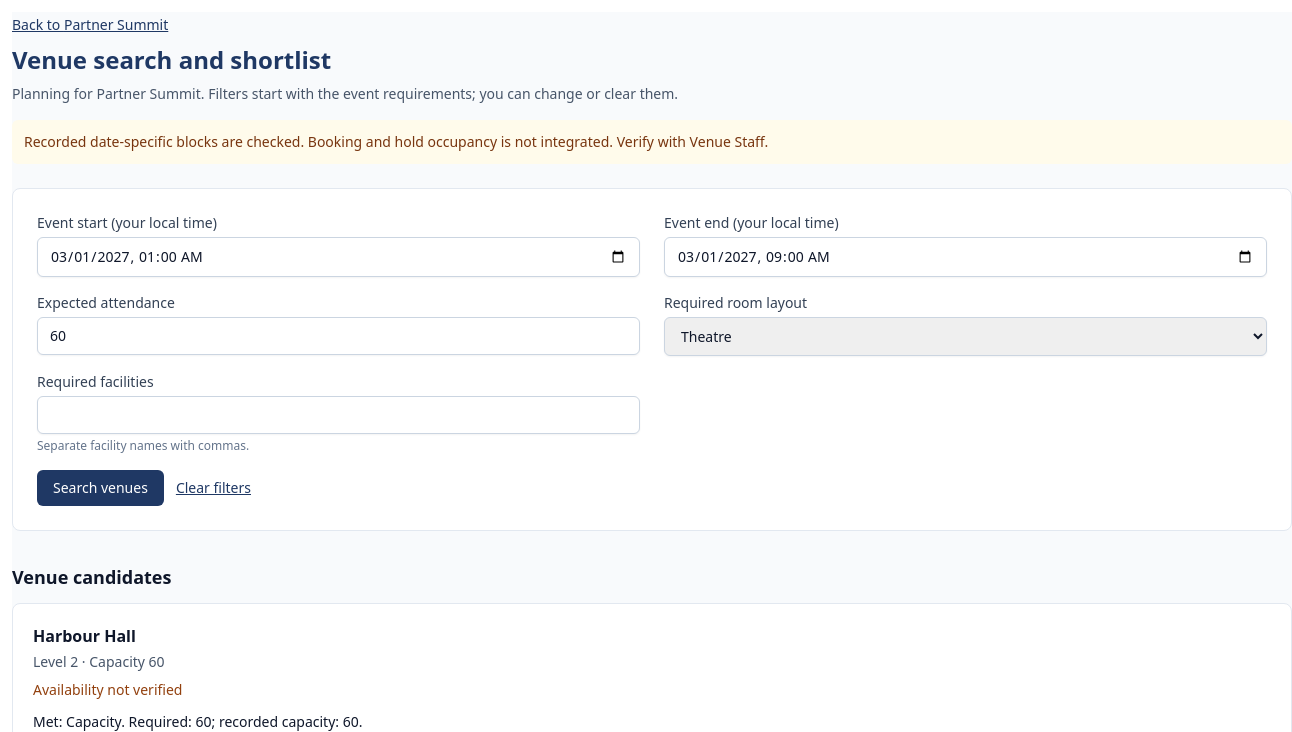
it: SCRUM-64/68 venue discovery › validates non-positive attendance before sending a search
Expected: the heading "Harbour Hall" is shown, [33,625,136,647]
Replace the text in the number field labelled "Expected attendance" with "0" at (338,336), box [37,317,640,355]
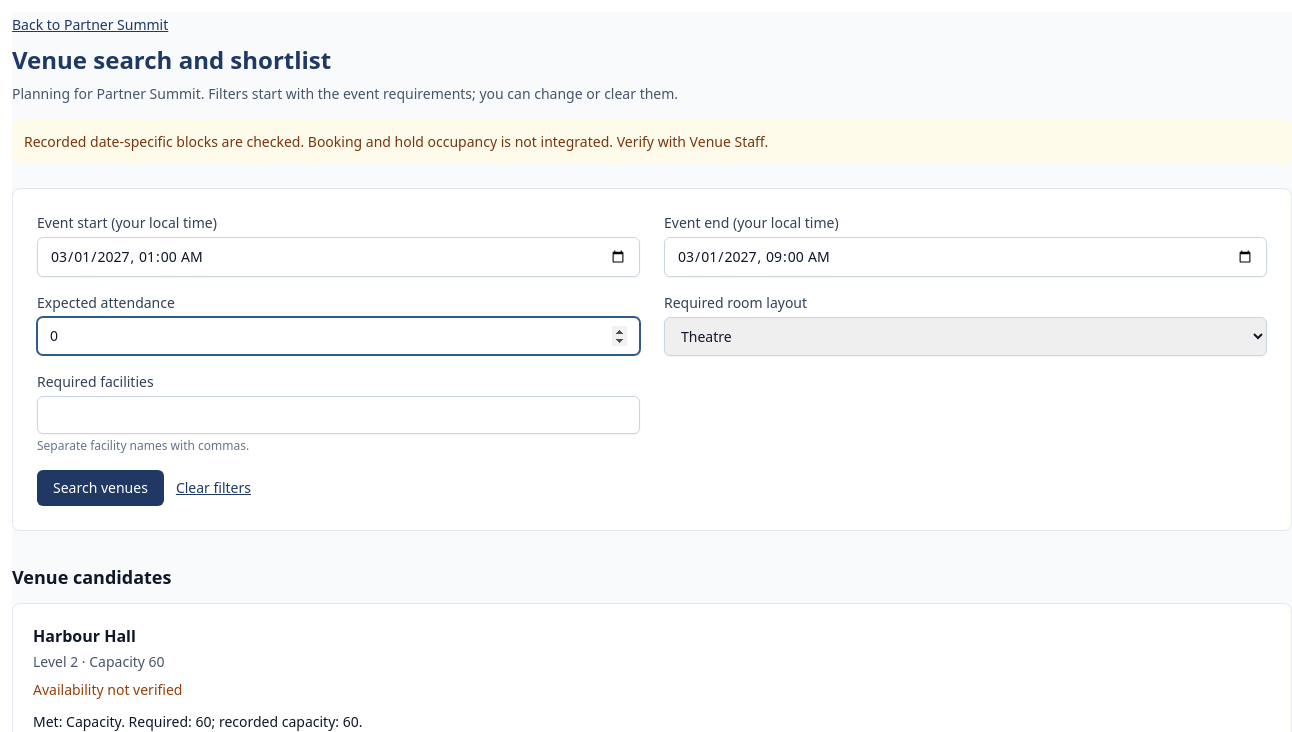
Click the button "Search venues" at (100,488), box [37,470,164,506]
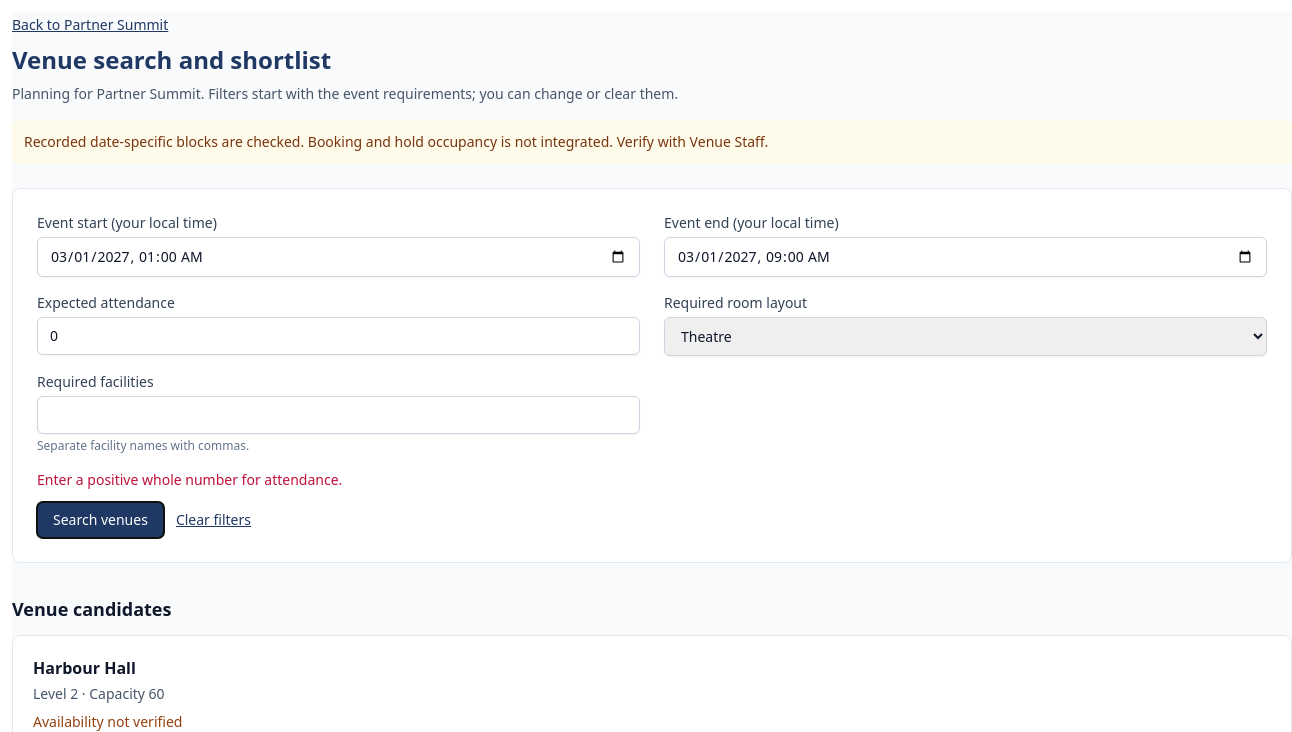
Now the message shows "positive whole number", box [37,470,342,489]
